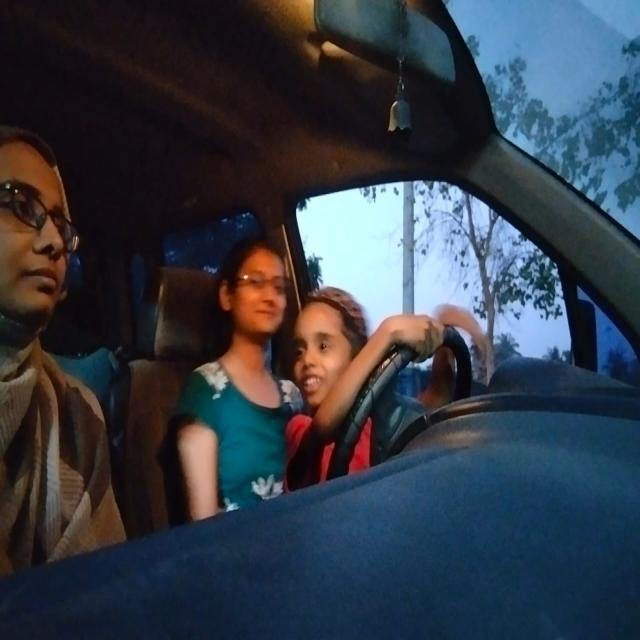child: (288, 282, 376, 413)
person: (0, 127, 91, 366), (207, 226, 297, 354)
